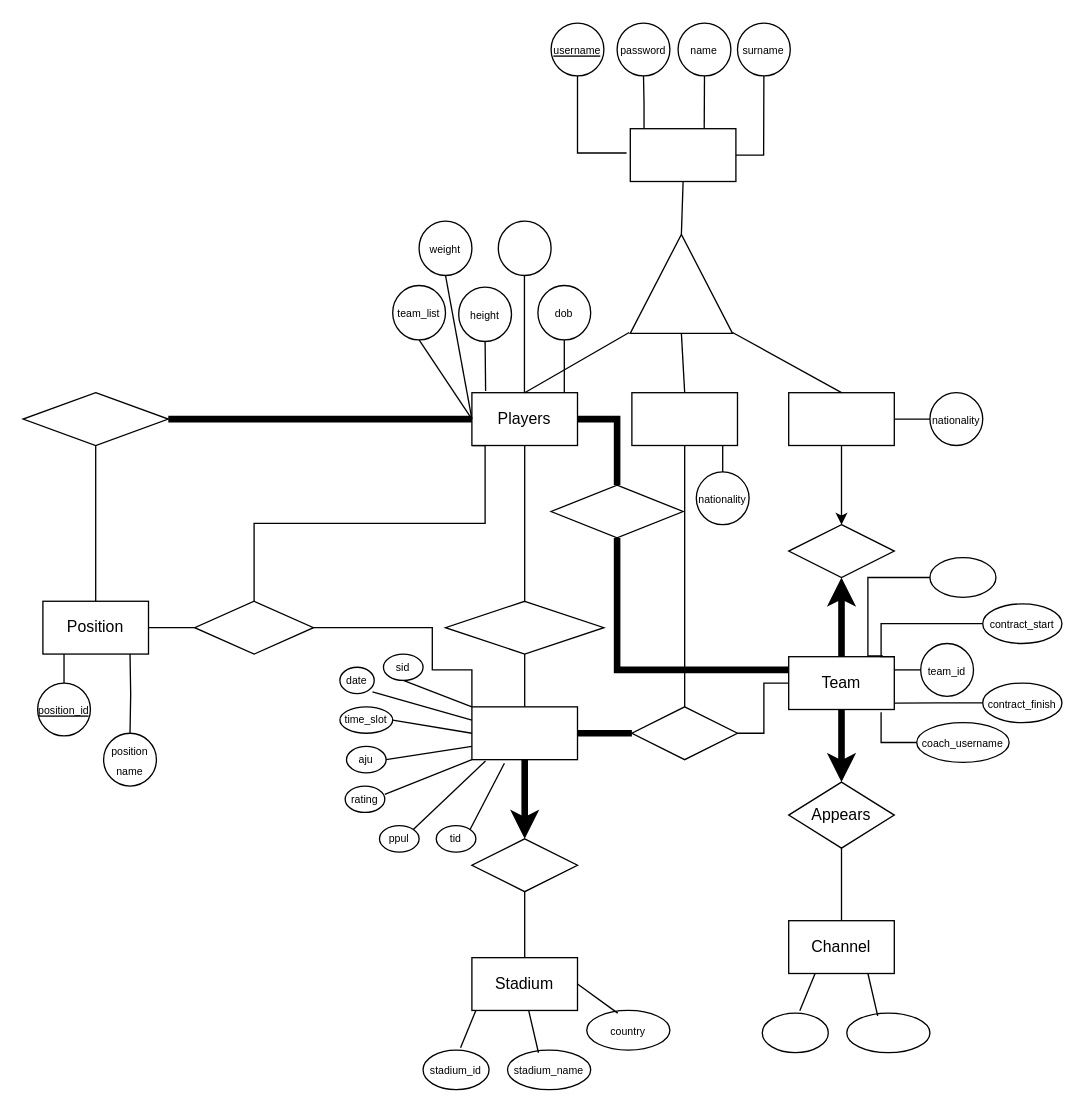
The diagram is 1085 pixels wide and 1113 high, and some of its shapes have lost their labels. The shapes that lost their labels are listed below. From the top down, each one's box as (x1, y1, x2, y2) in pixels, then its label:
(629, 127, 736, 182): User
(497, 220, 551, 275): pos_list
(629, 233, 733, 333): ISA
(22, 391, 168, 446): PlayerPositions
(631, 391, 737, 446): Juries
(787, 391, 894, 446): Coaches
(550, 484, 683, 538): PlayerTeams
(787, 523, 894, 578): Agrees
(929, 556, 996, 597): team_name
(193, 600, 314, 654): SessionSquads
(444, 600, 604, 654): Plays_in_match
(471, 706, 578, 760): Match Session
(631, 706, 737, 760): MS-T-J
(471, 838, 578, 892): Located_in
(761, 1012, 828, 1053): channel_id
(845, 1012, 930, 1053): channel_name
